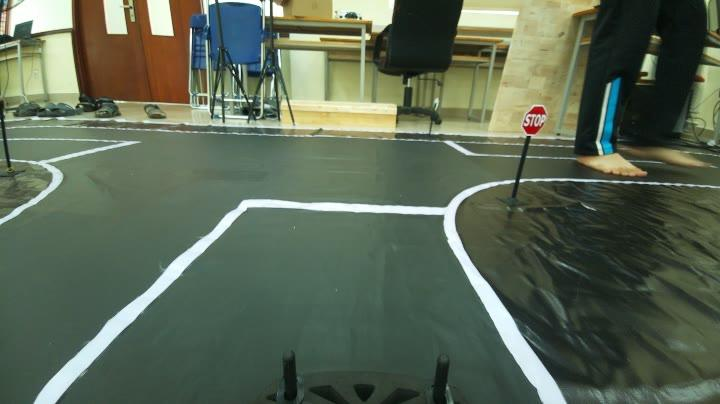stop: (517, 104, 549, 134)
